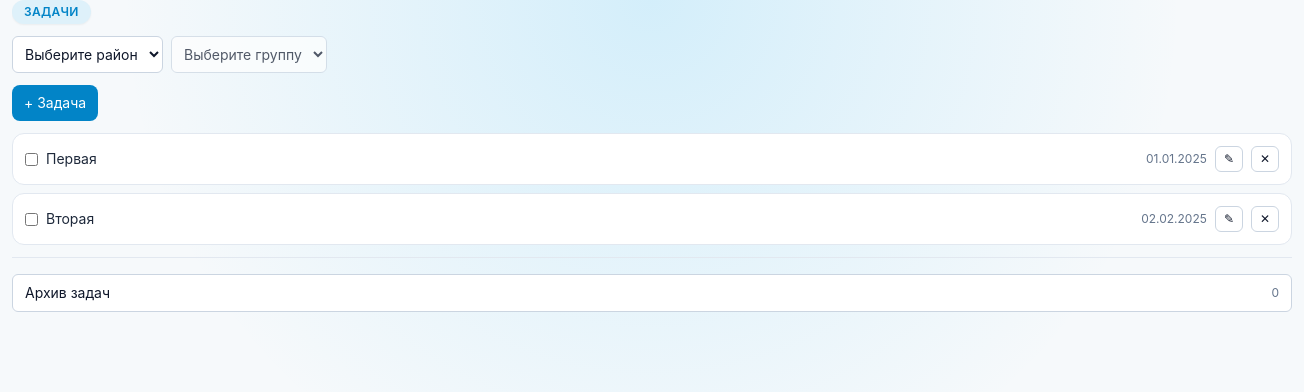
Test: TasksTab CRUD operations › Complete: checkbox moves task to archive
The width and height of the screenshot is (1304, 392).
What coordinates should you click on to do the following:
click the 1st checkbox
I would click on:
 (32, 159)
Its box is [25, 152, 38, 166].
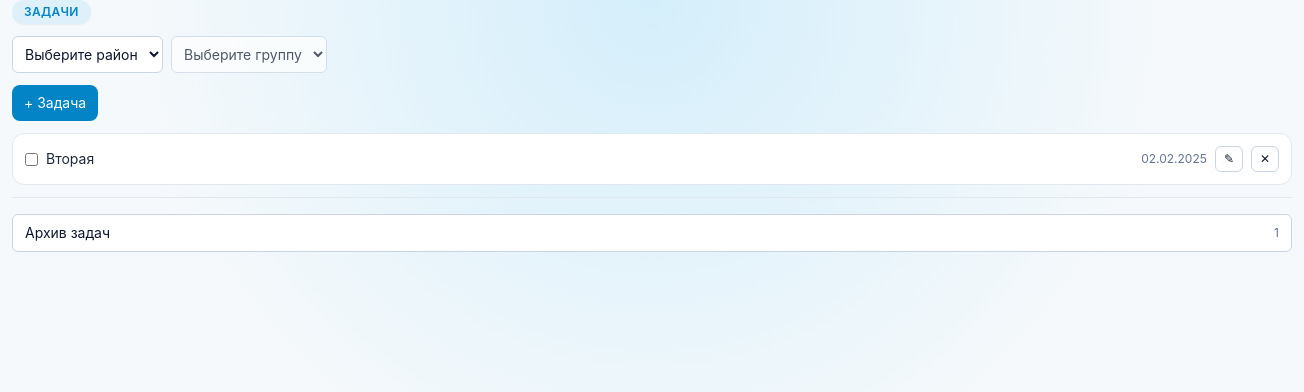
Result: the button "Первая" is gone
What coordinates should you click on to do the following:
click the text "Архив задач"
I would click on:
 (68, 233)
Its box is [25, 223, 110, 243].
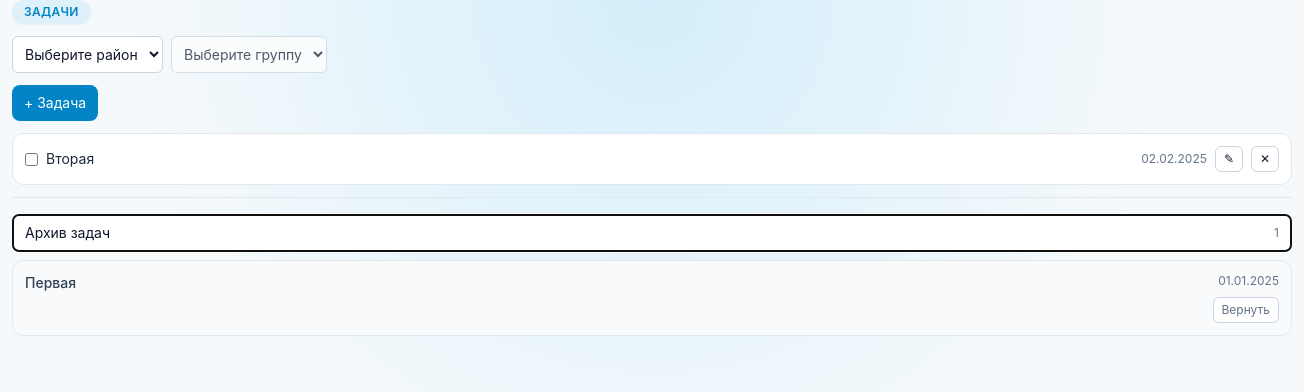
Result: the text "Первая" is shown at [25, 273, 76, 293]
